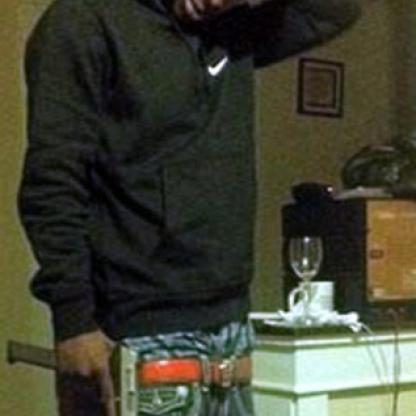gun: (2, 333, 140, 415)
